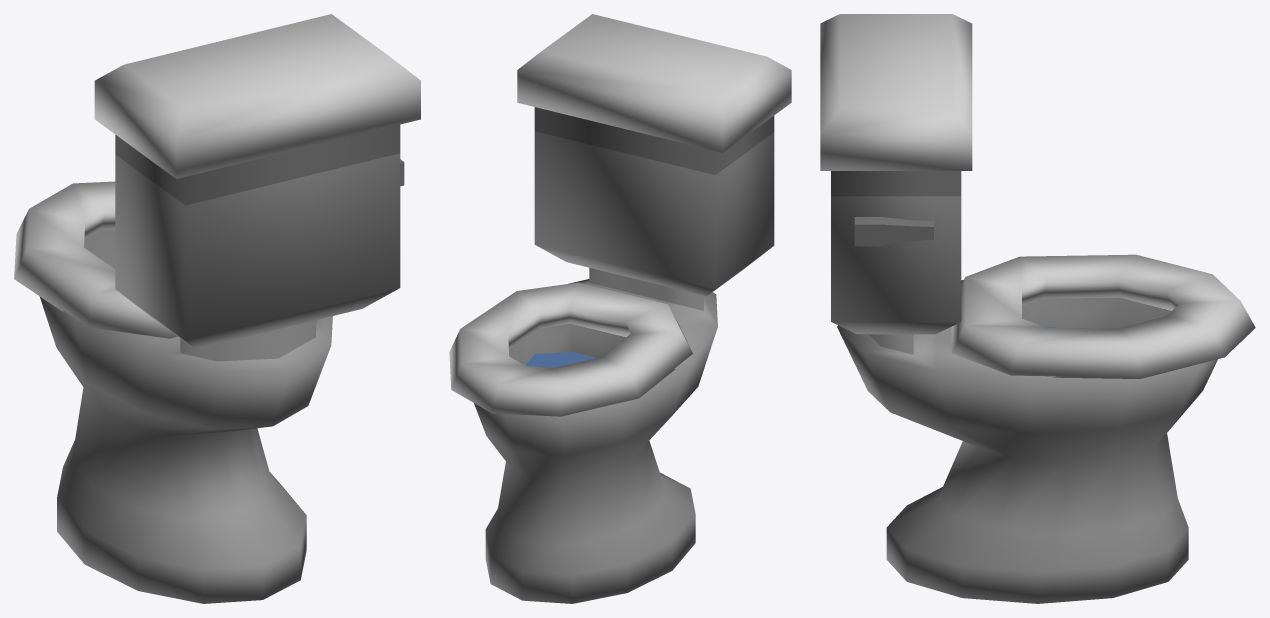
Rendered from Toilet.fbx.
3 views of the same model, side by side, from view 1: azimuth 30°, elevation 25°; view 2: azimuth 150°, elevation 25°; view 3: azimuth 270°, elevation 25° (orthographic). The views are drawn at different scales.
Parts seen in each view (by area): view 1: Toilet, Toilet.Lid; view 2: Toilet, Toilet.Lid; view 3: Toilet, Toilet.Lid.
Boxes of the visible parts, x1,y1,x2,y2 form: Toilet: (14,124,404,603); Toilet.Lid: (94,14,420,178); Toilet: (449,107,774,603); Toilet.Lid: (517,14,791,152); Toilet: (831,171,1255,603); Toilet.Lid: (820,14,972,170).
Size of the model in its own units: 0.54 by 1.12 by 0.8869.
